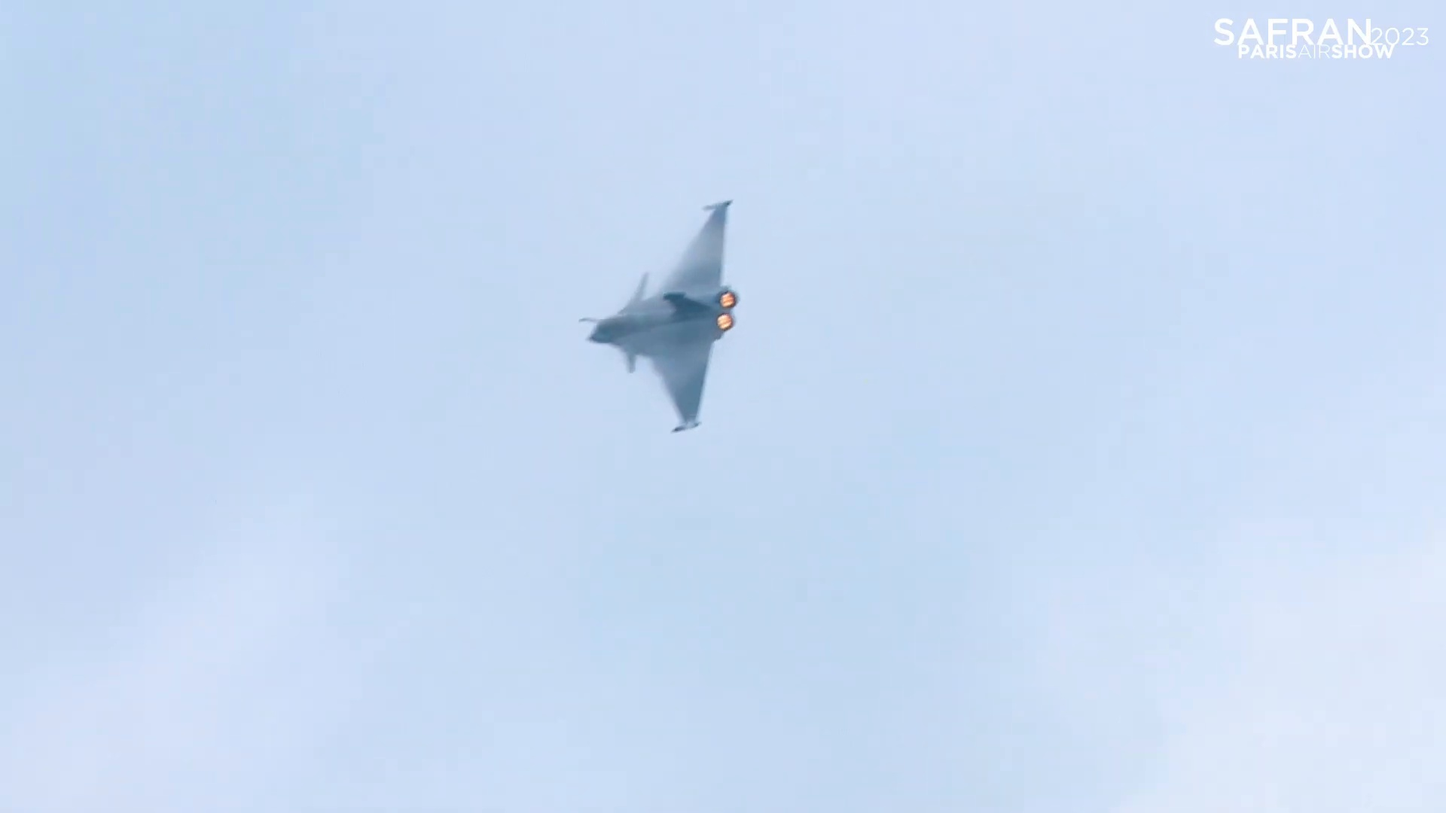Rafale: (572, 194, 748, 438)
